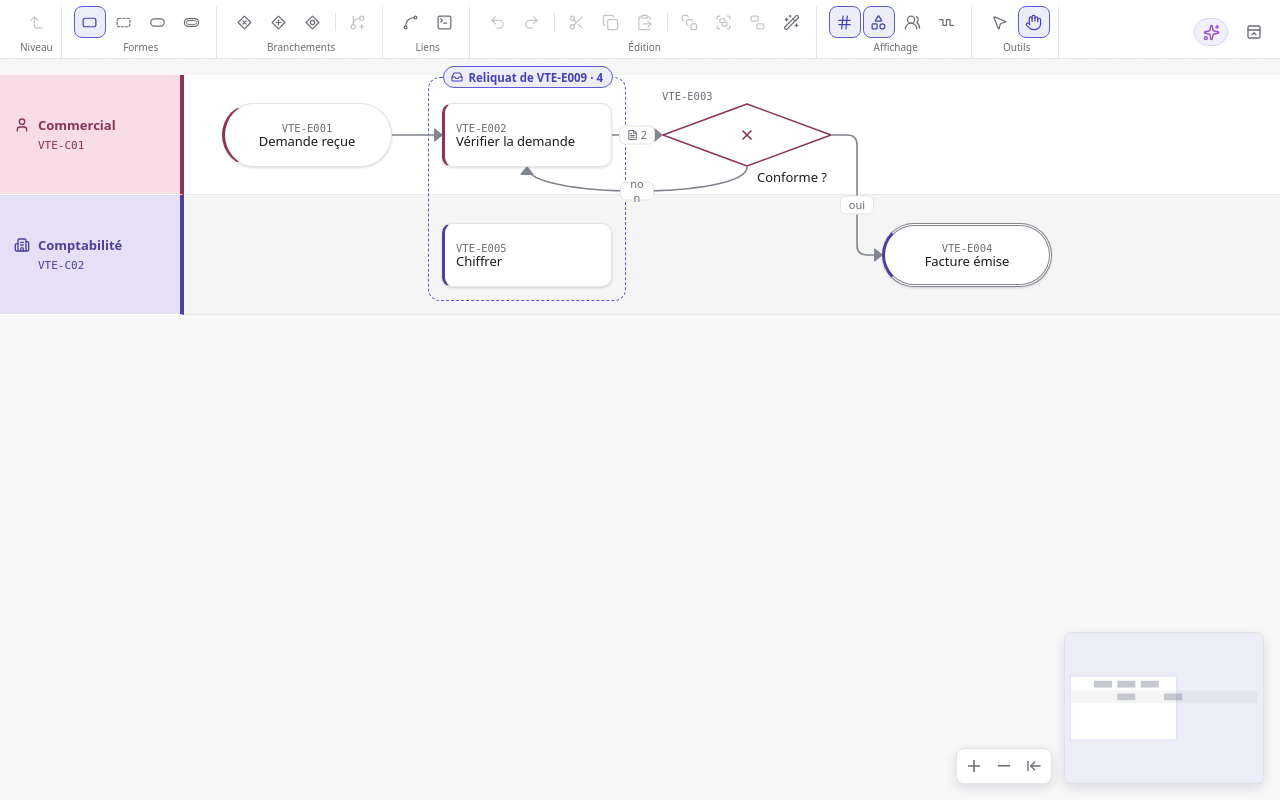
Test: the panel of the remainder (B-2.9-24 to B-2.9-28) › is docked on the right of the canvas, titled with the dissolved step, its sections in order
The width and height of the screenshot is (1280, 800).
What coordinates should you click on to do the following:
click the button with test id "dissolution-label"
I would click on:
 (528, 77)
Its box is [444,66,613,88].
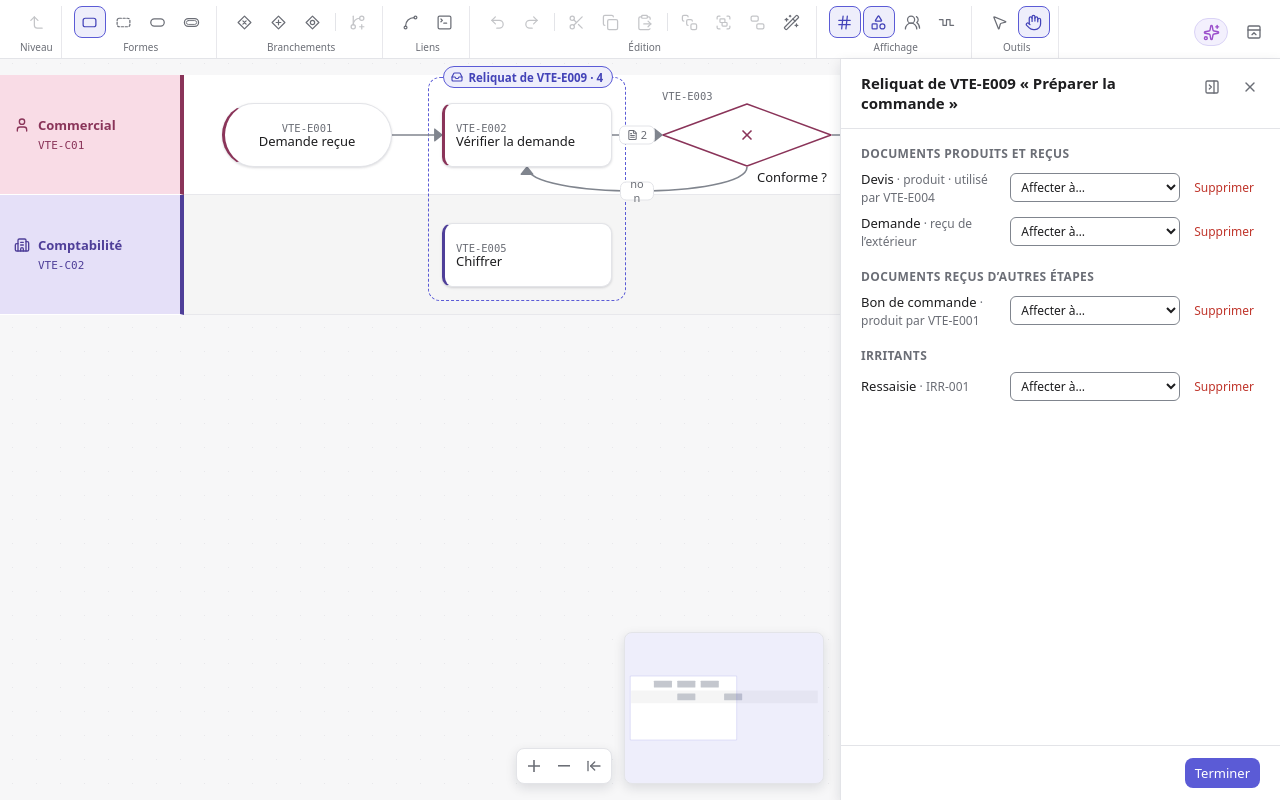
Expected: the heading "Reliquat de VTE-E009 « Préparer la commande »" is shown, [861,73,1116,113]
Expected: the headings read "Documents produits et reçus", "Documents reçus d’autres étapes", "Irritants", in this order, [861,144,1069,162]; [861,268,1094,284]; [861,346,927,364]
Expected: the list item with test id "remainder-document-o" shows "Devis · produit · utilisé par VTE-E004", [861,170,1260,206]
